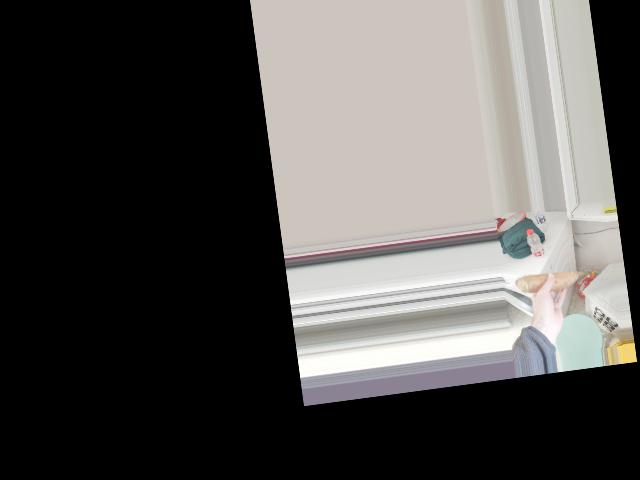sweet_potato: (521, 269, 582, 294)
